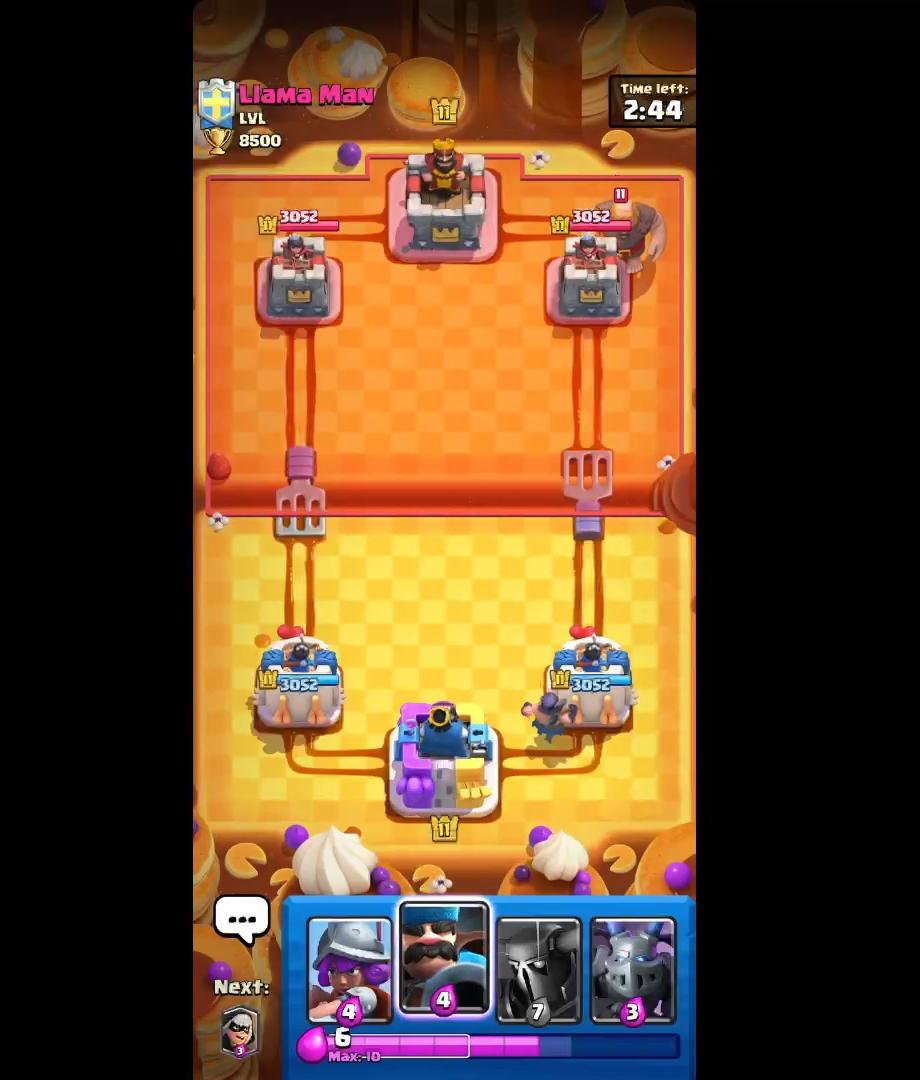Giant: (590, 188, 669, 286)
